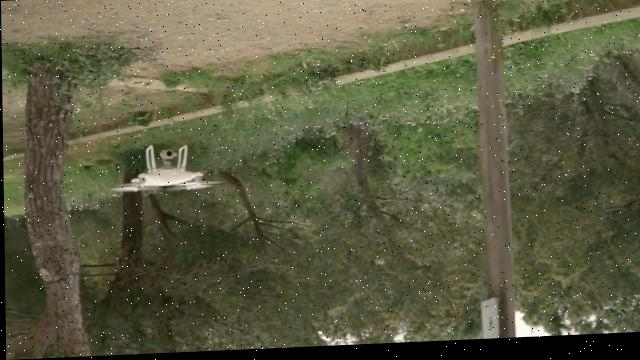drone: (105, 143, 225, 195)
